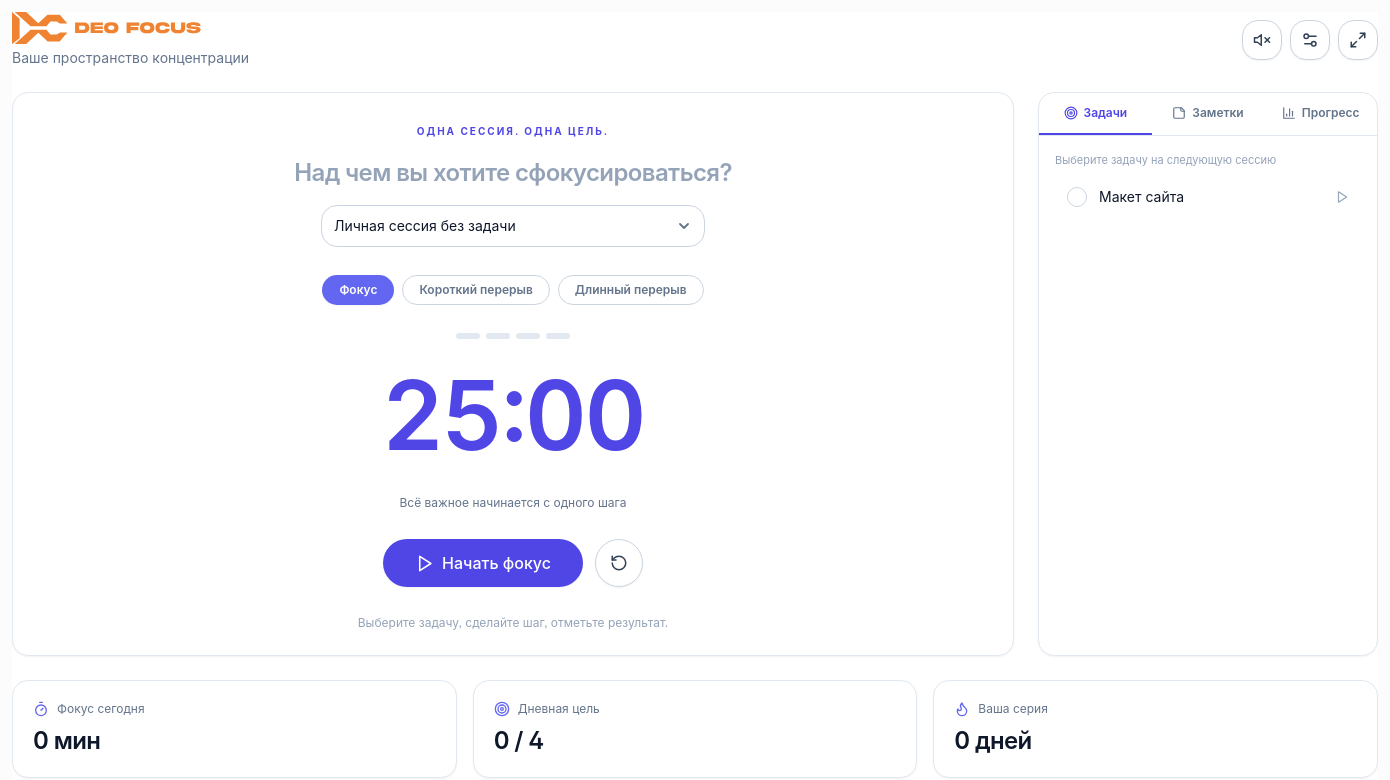
Test: starts a session tied to the selected CRM task and pauses through backend
Select "Макет сайта" in the dropdown named "Задача для фокуса" at [513, 226], box [321,205,705,247]
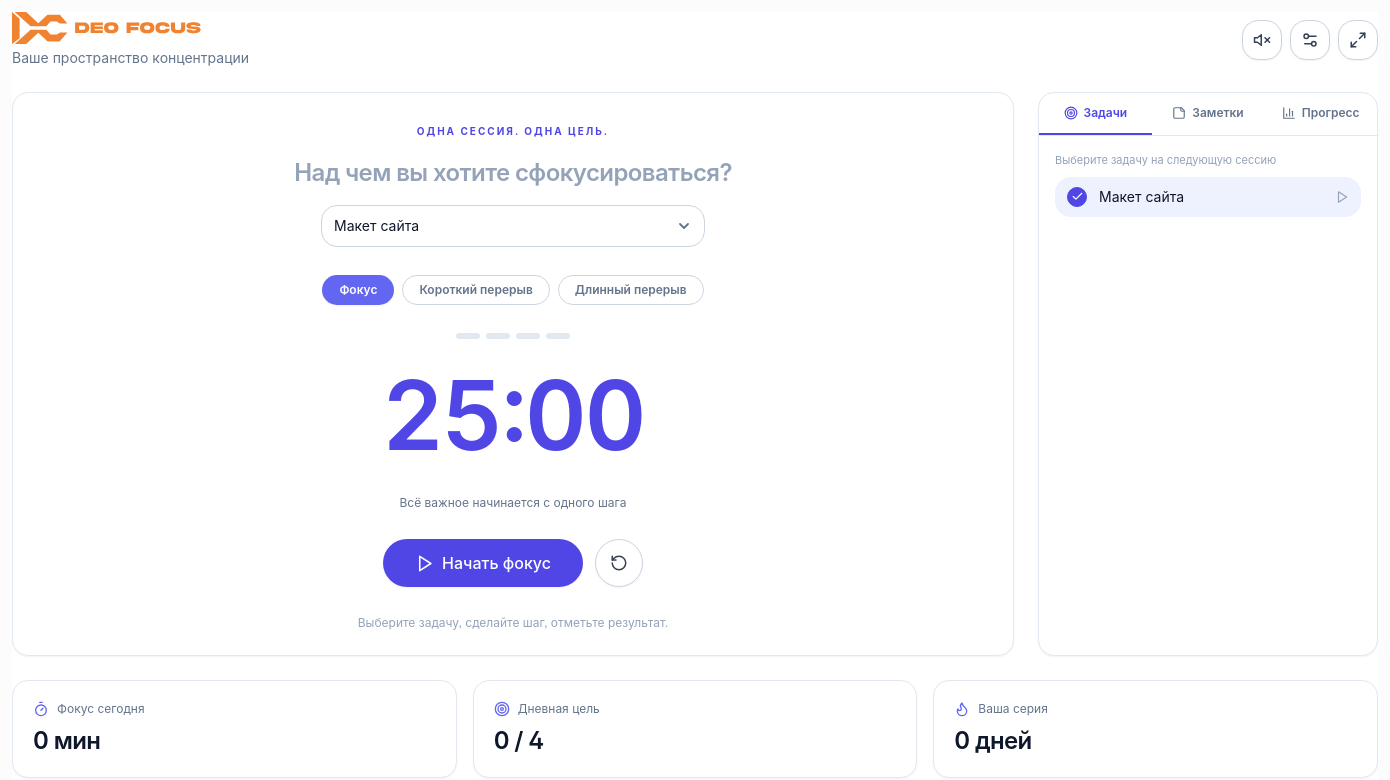
Type "Собрать первый экран" into the field named "Цель фокус-сессии".
click(513, 173); type("Собрать первый экран")  # box [225,157,801,189]
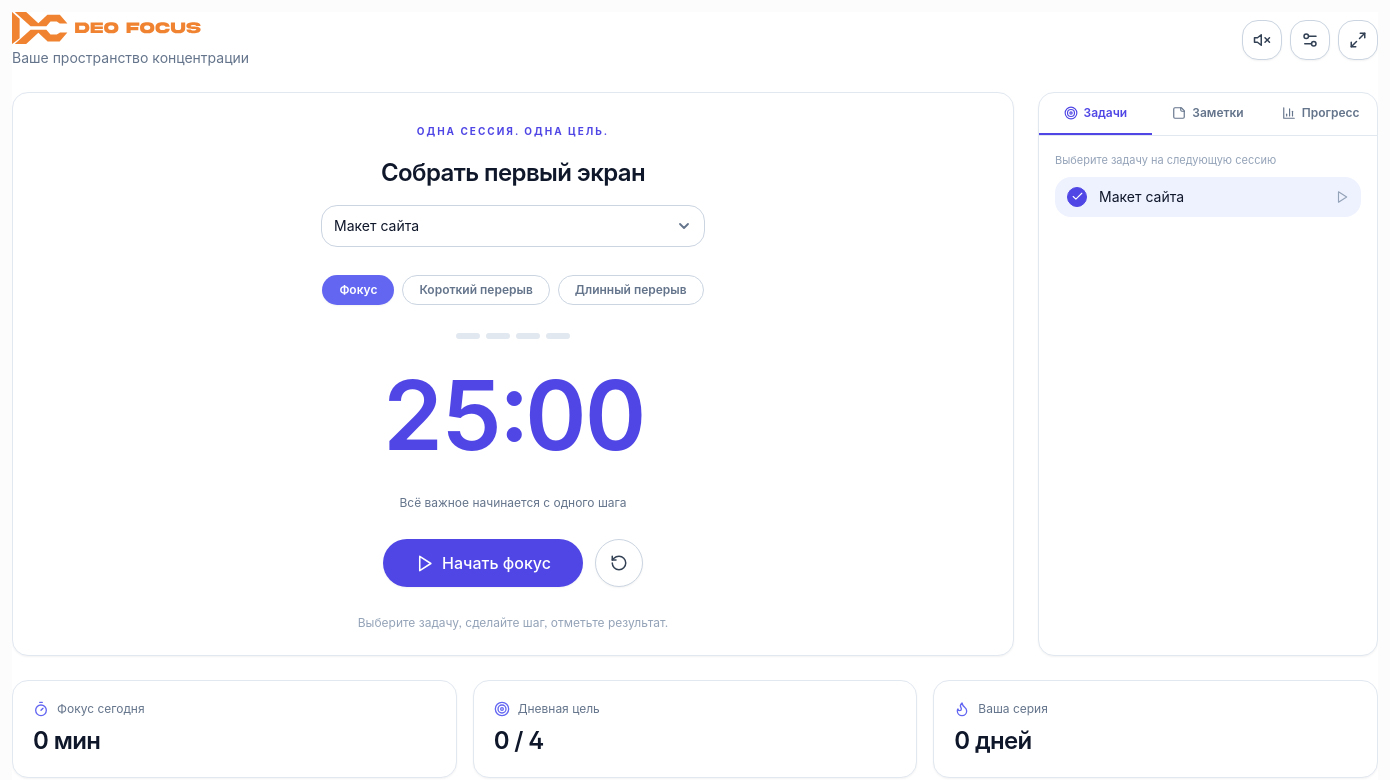
Click the button "Начать фокус".
click(483, 563)  # box [383,539,583,587]
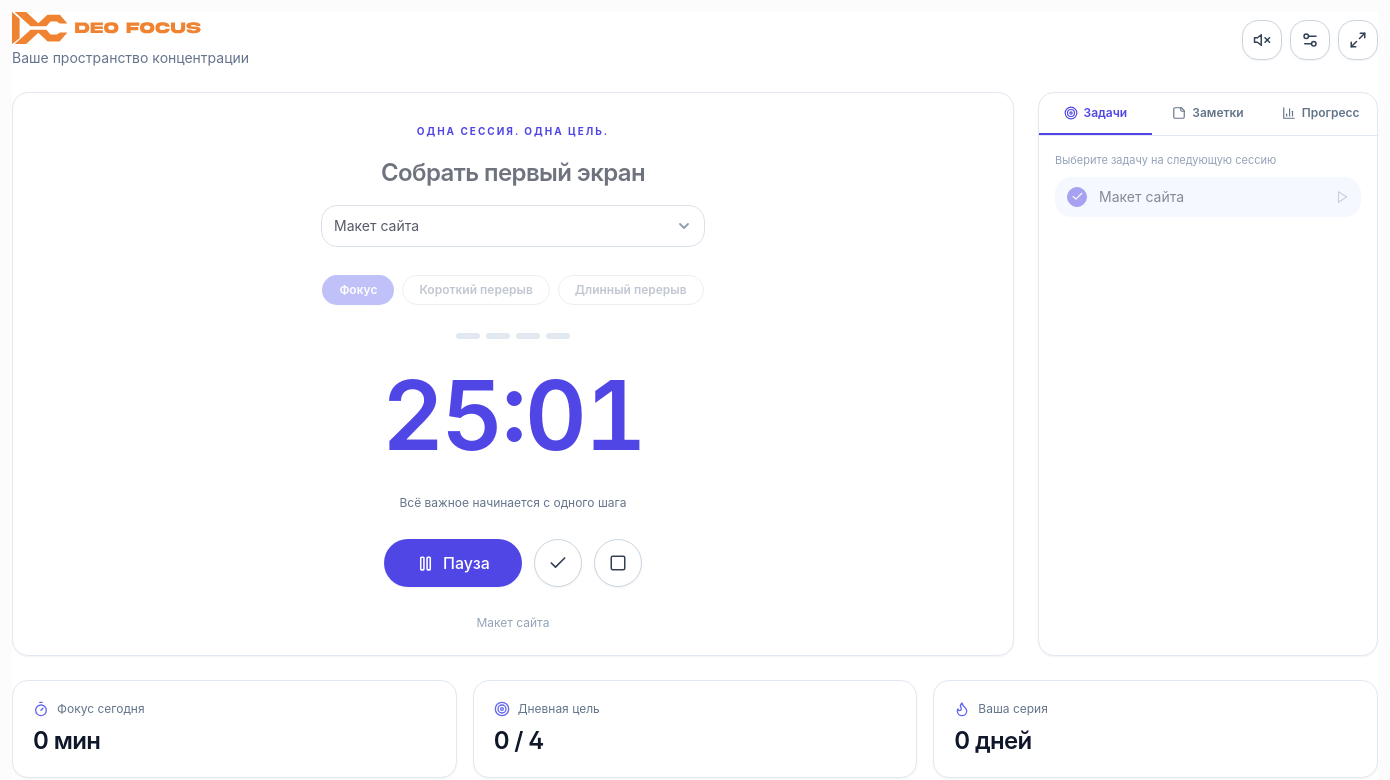
Click the button "Пауза".
click(453, 563)  # box [384,539,522,587]
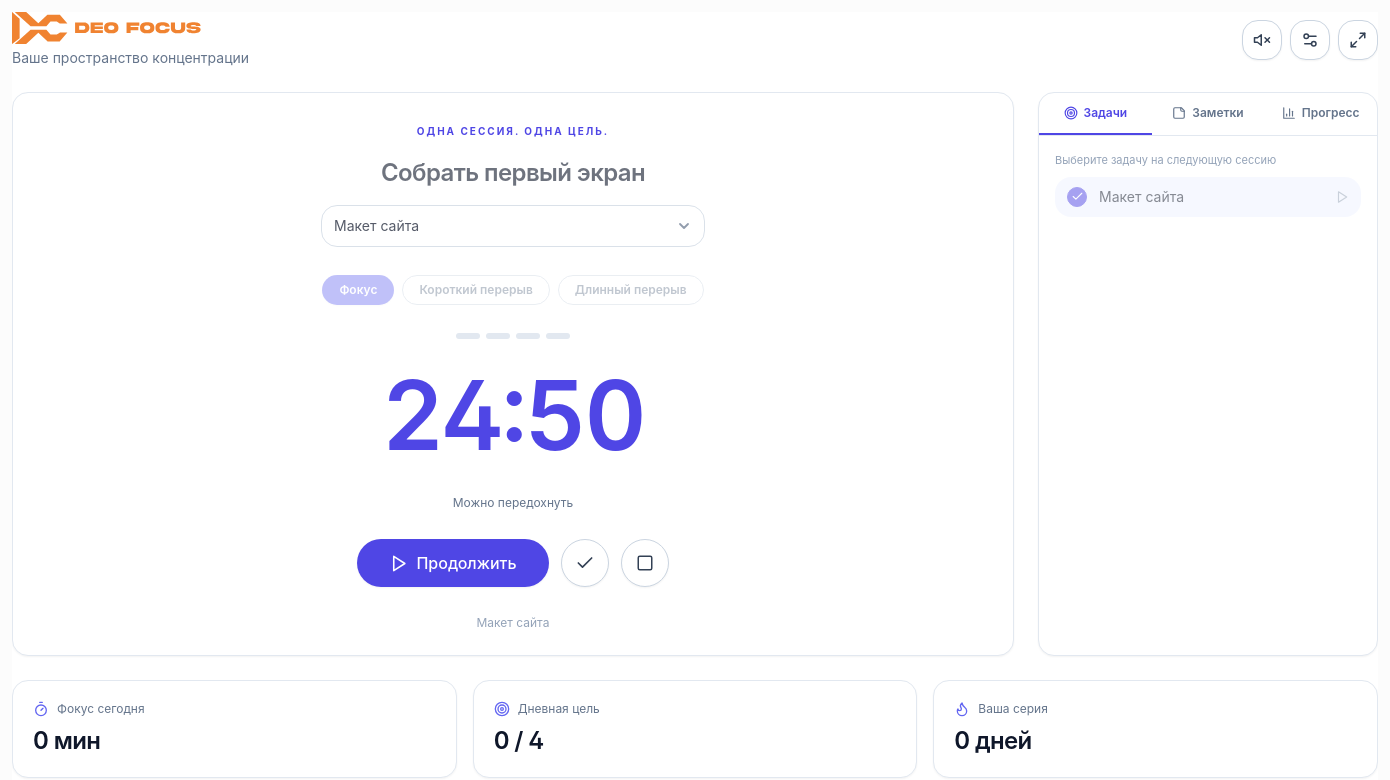
Check: the button "Продолжить" is shown, box [357,539,549,587]
